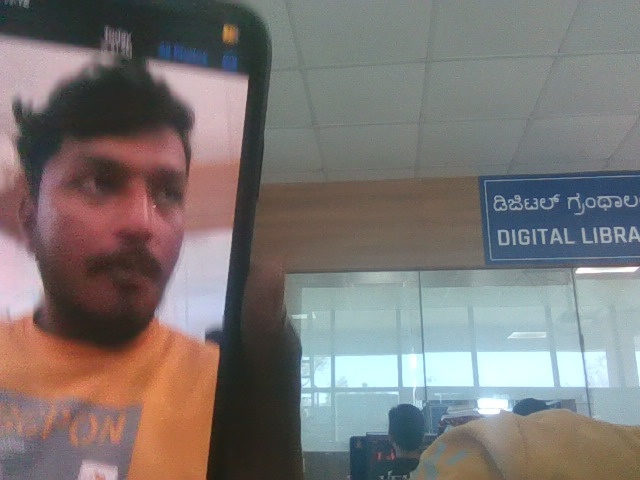fake: (9, 39, 222, 341)
